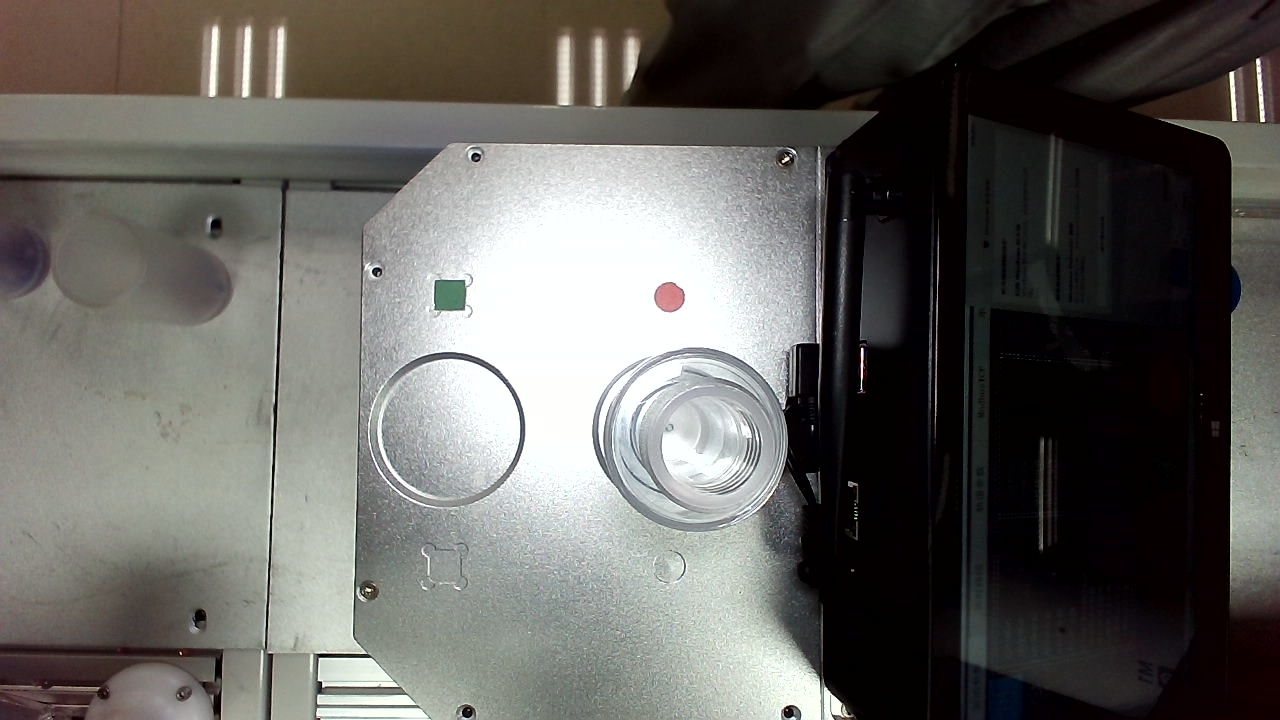bad: (559, 577, 605, 621), (297, 128, 341, 173), (336, 149, 379, 194), (850, 524, 896, 565), (536, 286, 577, 332), (259, 169, 306, 209), (741, 419, 780, 467), (695, 585, 736, 629), (638, 265, 679, 304), (365, 10, 404, 49), (269, 205, 313, 238), (714, 452, 751, 491), (774, 30, 811, 69), (819, 470, 860, 505), (258, 288, 295, 326), (574, 330, 613, 366), (824, 155, 861, 191), (727, 1, 763, 37), (501, 392, 536, 428), (642, 363, 675, 399), (260, 334, 295, 367), (379, 67, 412, 102), (780, 1, 815, 32)
defact: (595, 215, 627, 260)
pass: (263, 609, 305, 655), (559, 149, 605, 190), (263, 408, 306, 449), (287, 568, 330, 609), (824, 544, 865, 587), (411, 382, 452, 423), (409, 332, 450, 372), (532, 385, 570, 426), (559, 526, 595, 569), (806, 500, 845, 539), (555, 614, 593, 654), (621, 188, 659, 227), (793, 135, 827, 178), (630, 62, 663, 102), (780, 421, 815, 458), (690, 45, 722, 85), (545, 354, 575, 390)
toolong: (578, 375, 645, 421), (342, 40, 381, 103), (714, 223, 771, 262)
unpass: (824, 121, 870, 168), (747, 292, 786, 336), (680, 256, 720, 296), (537, 236, 575, 277), (277, 364, 319, 401), (502, 249, 540, 289), (851, 492, 892, 529), (790, 336, 826, 378), (842, 398, 881, 436), (402, 44, 439, 84), (594, 543, 627, 587), (693, 7, 728, 48), (850, 457, 888, 493), (459, 239, 495, 273), (627, 222, 660, 259), (470, 278, 503, 315), (649, 31, 680, 70), (458, 206, 491, 242)
